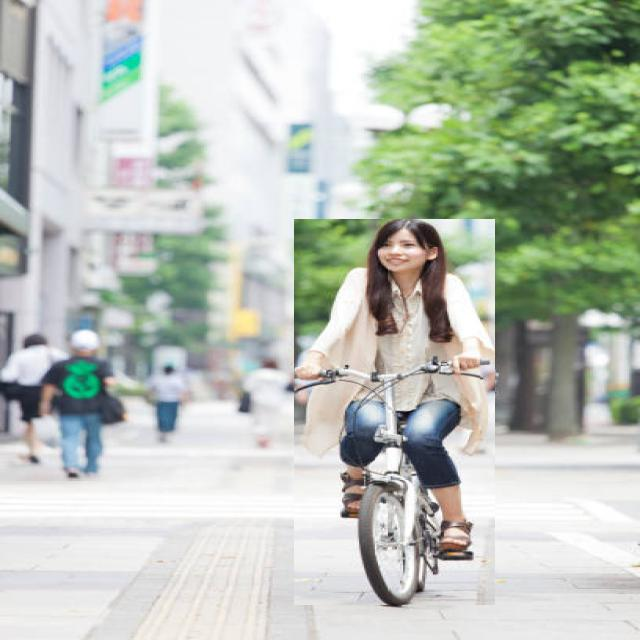bicycle: (294, 220, 495, 605)
